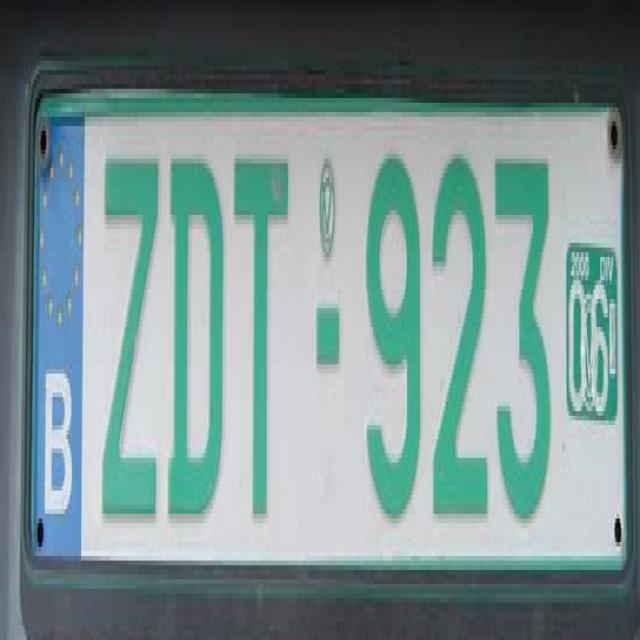Belgique: (33, 108, 86, 555)
EU: (32, 98, 634, 577)
